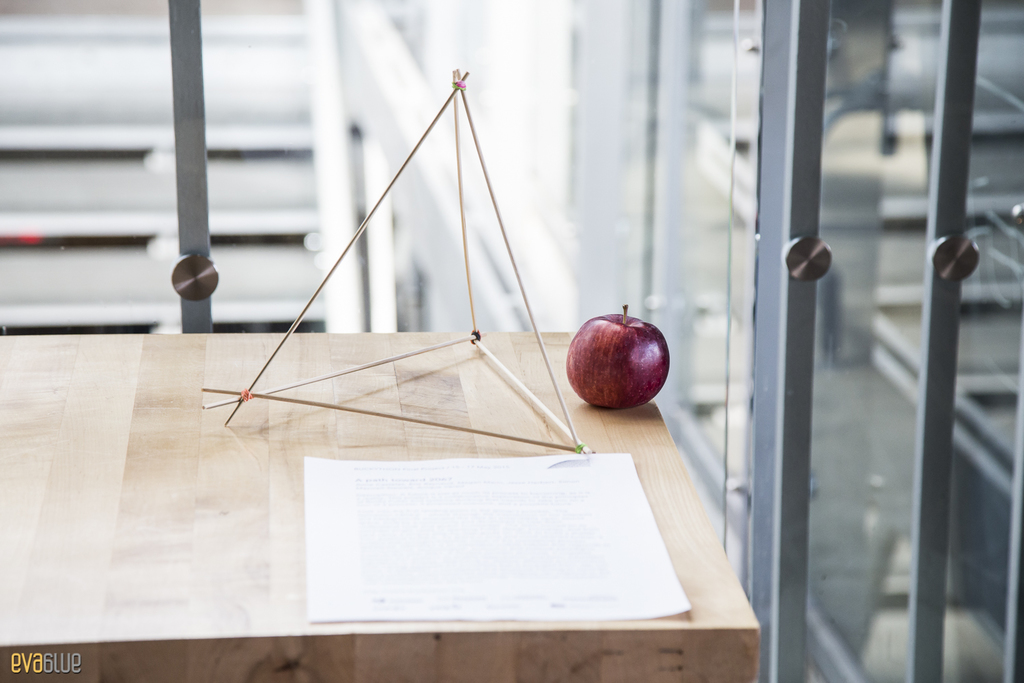Apple: (567, 303, 677, 412)
